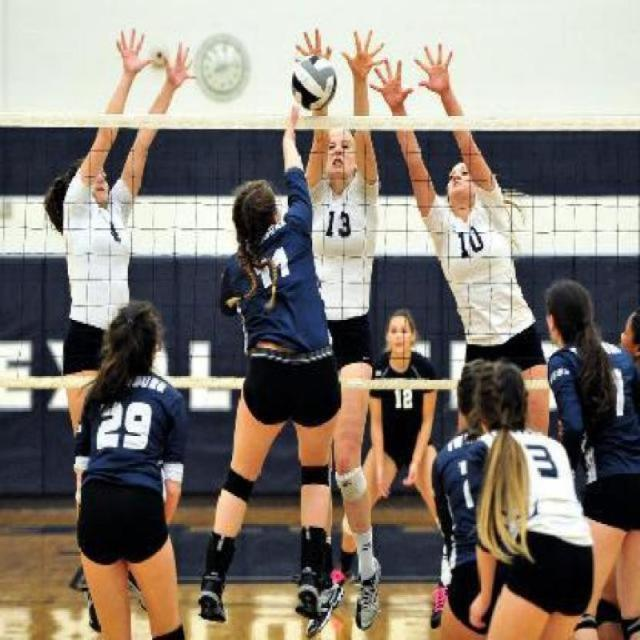volleyball: (290, 51, 338, 110)
